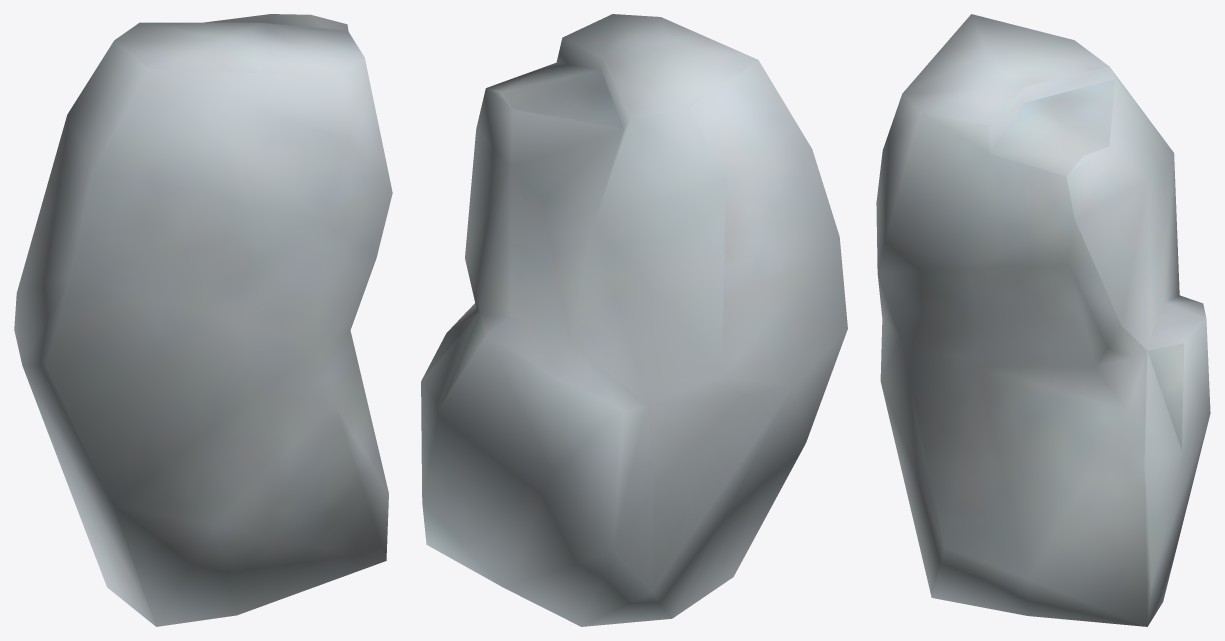
File: P_RockSpire_Rock08.obj
3 views of the same model, side by side, from view 1: azimuth 30°, elevation 25°; view 2: azimuth 150°, elevation 25°; view 3: azimuth 270°, elevation 25° (orthographic). The views are drawn at different scales.
Bounding box in the file's own units: 4.94 × 7.15 × 4.08.
